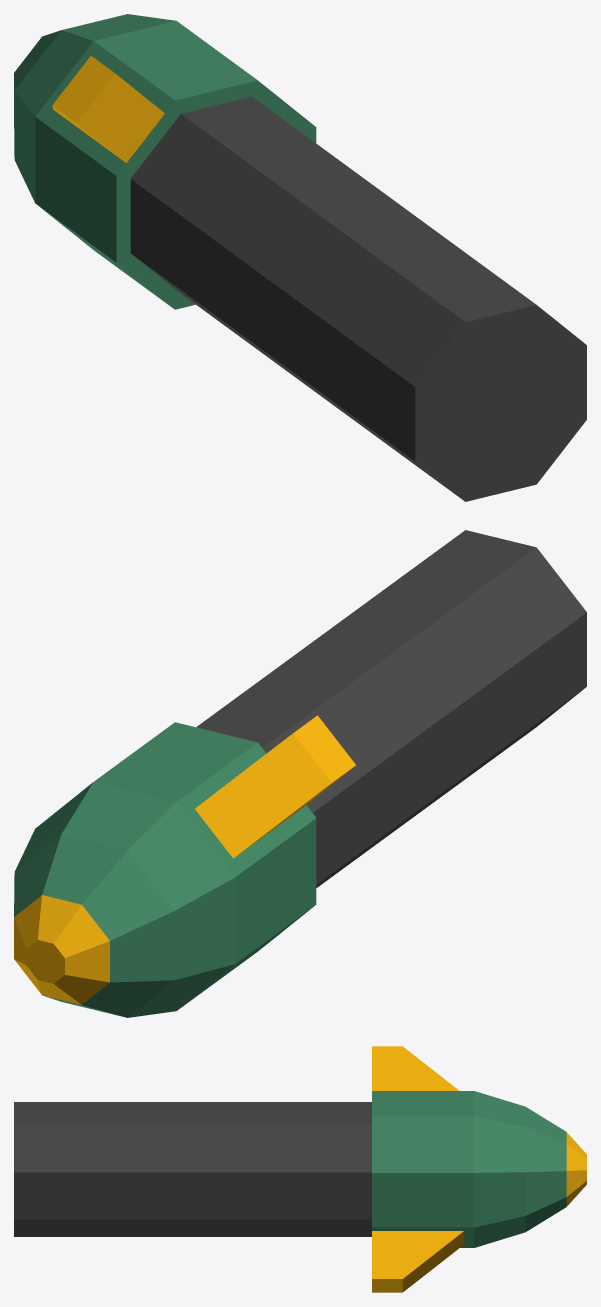
The model's file is ammo_rocketModern.dae.
3 views of the same model, one above another, from view 1: azimuth 30°, elevation 25°; view 2: azimuth 150°, elevation 25°; view 3: azimuth 270°, elevation 25° (orthographic). The views are drawn at different scales.
Visible parts, largest first — view 1: ammo_rocketModern; view 2: ammo_rocketModern; view 3: ammo_rocketModern.
Boxes of the visible parts, x1,y1,x2,y2 form: ammo_rocketModern: (14, 14, 586, 501); ammo_rocketModern: (14, 530, 586, 1017); ammo_rocketModern: (14, 1046, 586, 1292).
Bounding box in the file's own units: 0.076 × 0.076 × 0.2144.
